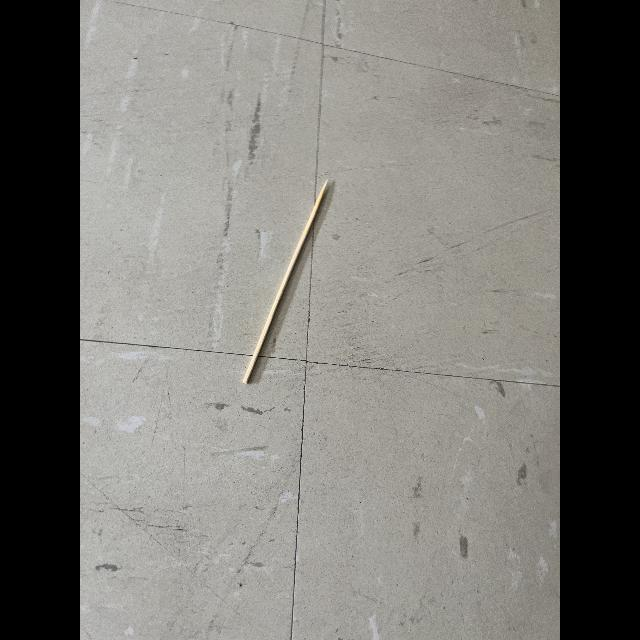stick: (225, 174, 352, 402)
